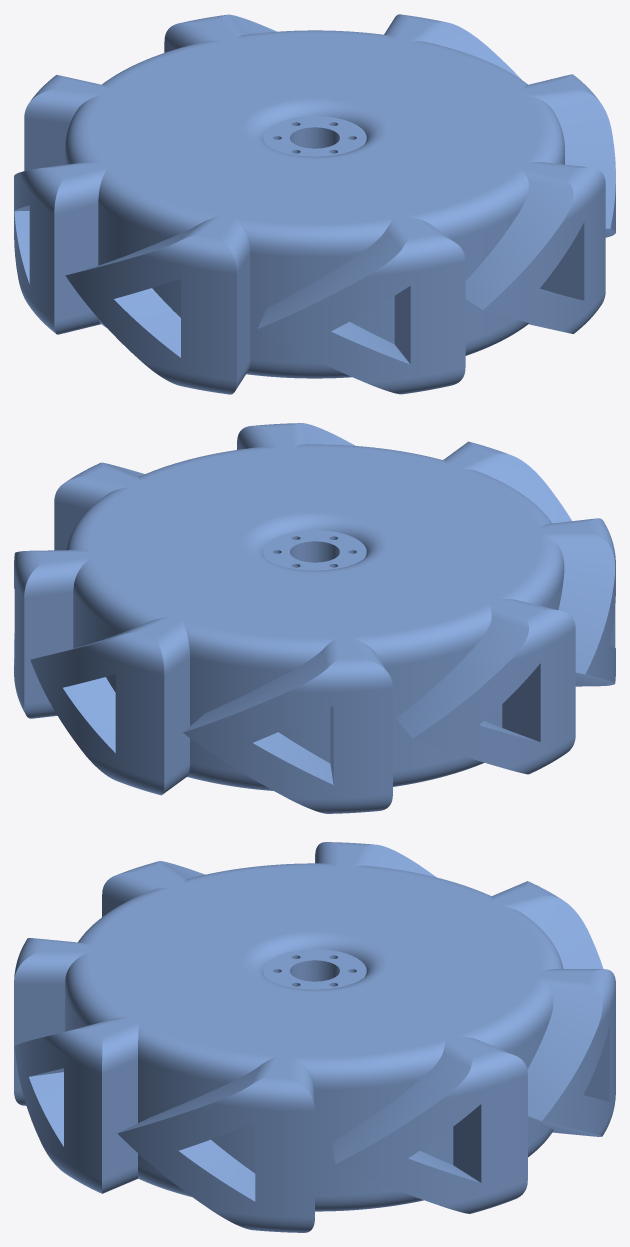
The model's file is wheel_Mirrored.gltf.
3 views of the same model, one above another, from view 1: azimuth 30°, elevation 25°; view 2: azimuth 150°, elevation 25°; view 3: azimuth 270°, elevation 25° (orthographic).
Parts seen in each view (by area): view 1: mesh401, mesh414, mesh409, mesh419, mesh365, mesh379, mesh381, mesh353, mesh309, mesh394, mesh393, mesh444 (+35 smaller); view 2: mesh401, mesh439, mesh444, mesh434, mesh389, mesh402, mesh335, mesh403, mesh405, mesh309, mesh333, mesh323 (+33 smaller); view 3: mesh401, mesh424, mesh429, mesh419, mesh325, mesh343, mesh345, mesh341, mesh357, mesh309, mesh434, mesh358 (+34 smaller).
Boxes of the visible parts, left/top/right/bottom form: mesh401: left=56, top=19, right=573, bottom=238; mesh414: left=257, top=262, right=465, bottom=382; mesh409: left=65, top=255, right=236, bottom=380; mesh419: left=483, top=185, right=605, bottom=330; mesh365: left=465, top=180, right=573, bottom=309; mesh379: left=250, top=253, right=355, bottom=362; mesh381: left=233, top=217, right=393, bottom=257; mesh353: left=546, top=95, right=615, bottom=228; mesh309: left=241, top=98, right=388, bottom=159; mesh394: left=54, top=204, right=98, bottom=320; mesh393: left=98, top=167, right=221, bottom=237; mesh444: left=14, top=173, right=54, bottom=320; mesh401: left=40, top=426, right=589, bottom=658; mesh439: left=183, top=688, right=392, bottom=798; mesh444: left=413, top=629, right=575, bottom=769; mesh434: left=30, top=647, right=164, bottom=781; mesh389: left=556, top=540, right=614, bottom=674; mesh402: left=396, top=616, right=528, bottom=738; mesh335: left=182, top=620, right=336, bottom=670; mesh403: left=349, top=603, right=491, bottom=666; mesh405: left=384, top=647, right=474, bottom=771; mesh309: left=241, top=512, right=388, bottom=573; mesh333: left=190, top=657, right=290, bottom=772; mesh323: left=24, top=593, right=73, bottom=704; mesh401: left=40, top=845, right=589, bottom=1077; mesh424: left=117, top=1104, right=314, bottom=1217; mesh429: left=336, top=1074, right=527, bottom=1205; mesh419: left=14, top=1037, right=101, bottom=1179; mesh325: left=527, top=988, right=602, bottom=1120; mesh343: left=315, top=1081, right=418, bottom=1195; mesh345: left=290, top=1039, right=445, bottom=1090; mesh341: left=332, top=1052, right=470, bottom=1163; mesh357: left=138, top=1021, right=277, bottom=1083; mesh309: left=241, top=931, right=388, bottom=992; mesh434: left=542, top=988, right=615, bottom=1134; mesh358: left=102, top=1059, right=137, bottom=1180.
Size of the model in its own units: 0.361 by 0.1 by 0.361.
